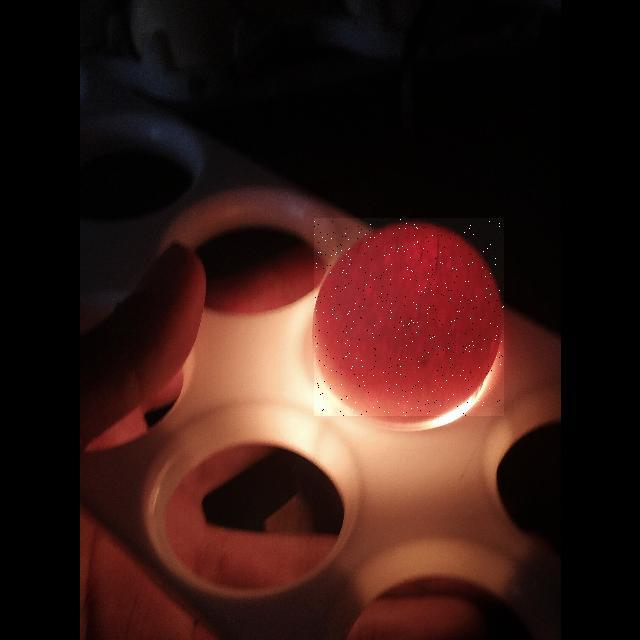Fertile: (314, 218, 504, 416)
